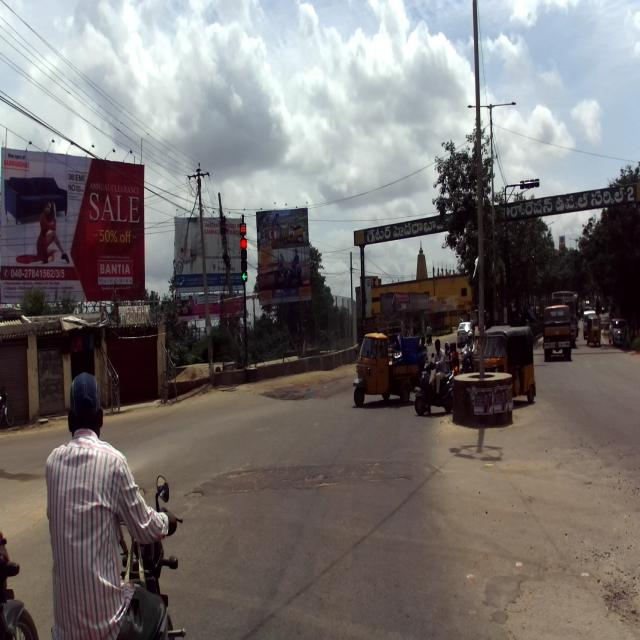autorickshaw: (352, 318, 423, 406), (482, 326, 536, 402)
motorcycle: (117, 473, 186, 640)
scooter: (412, 352, 456, 415)
